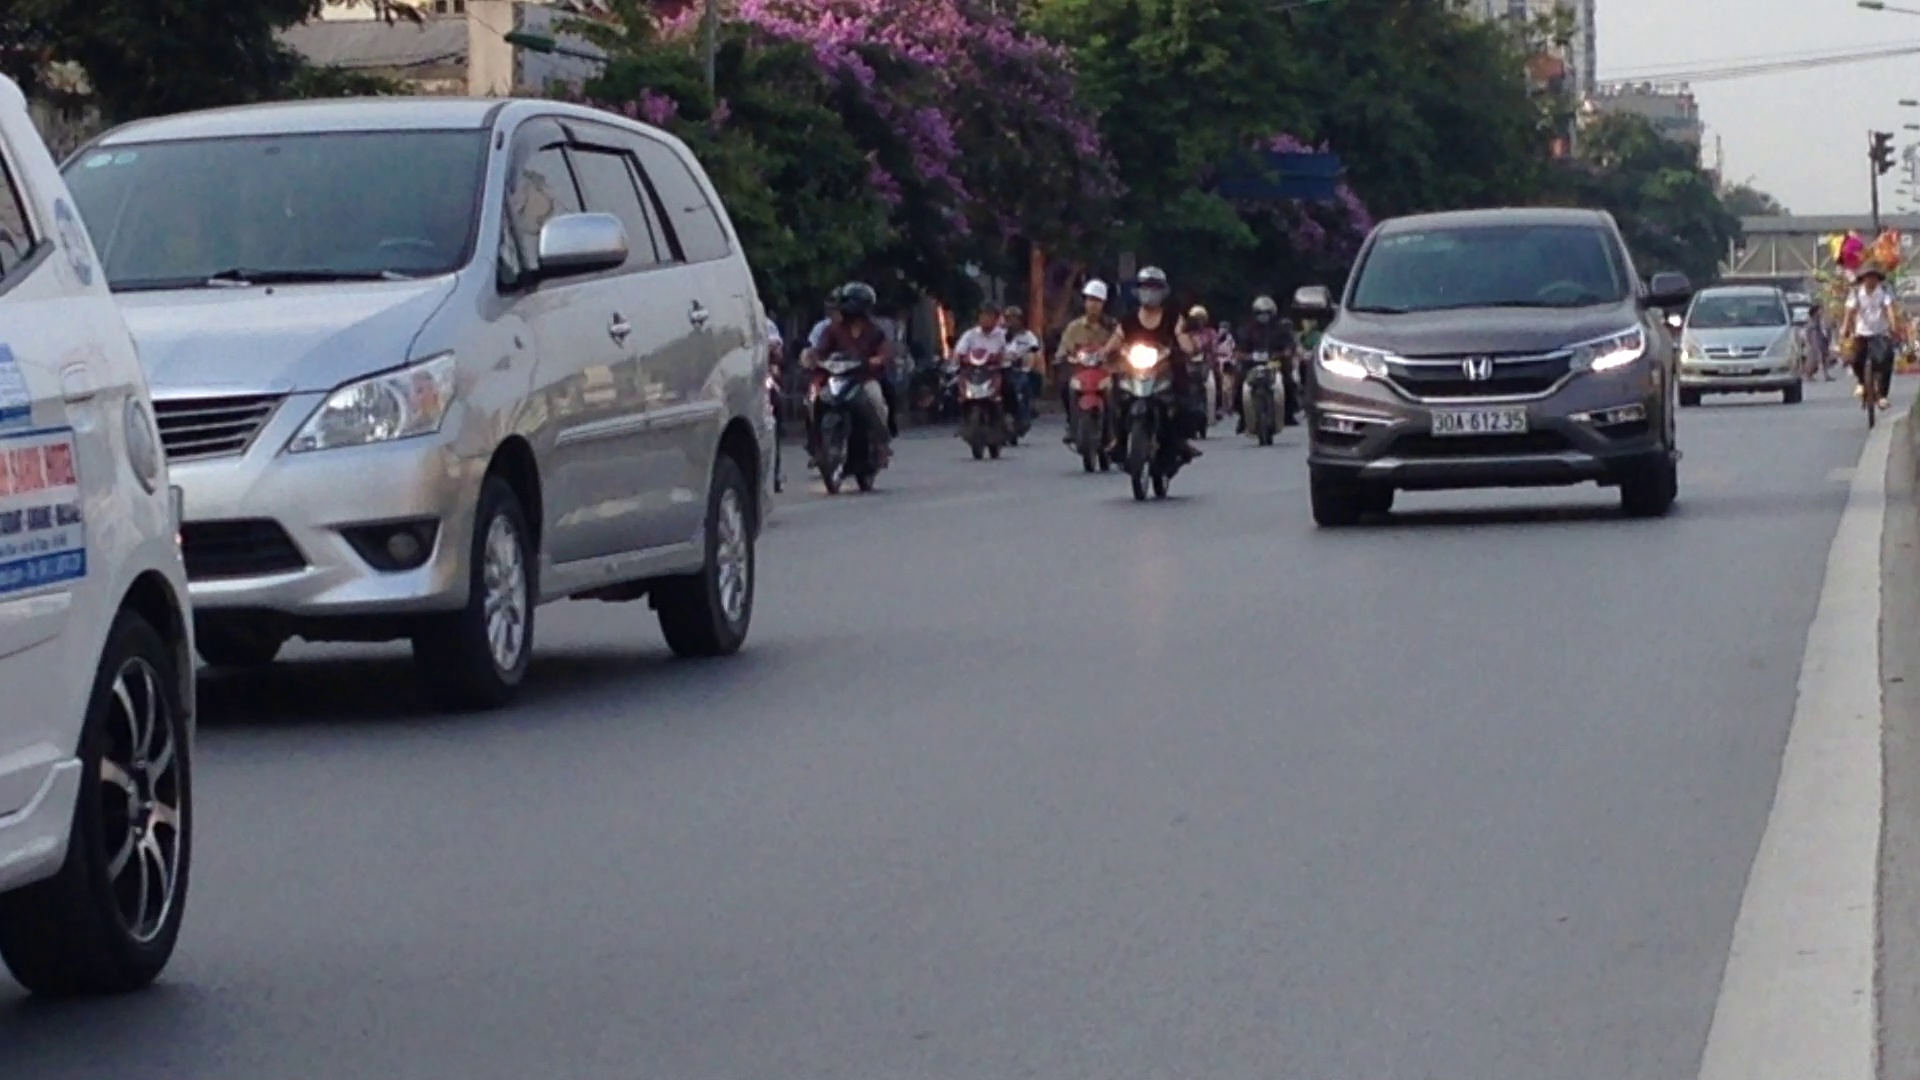vehicle-plate: (1425, 405, 1531, 436)
